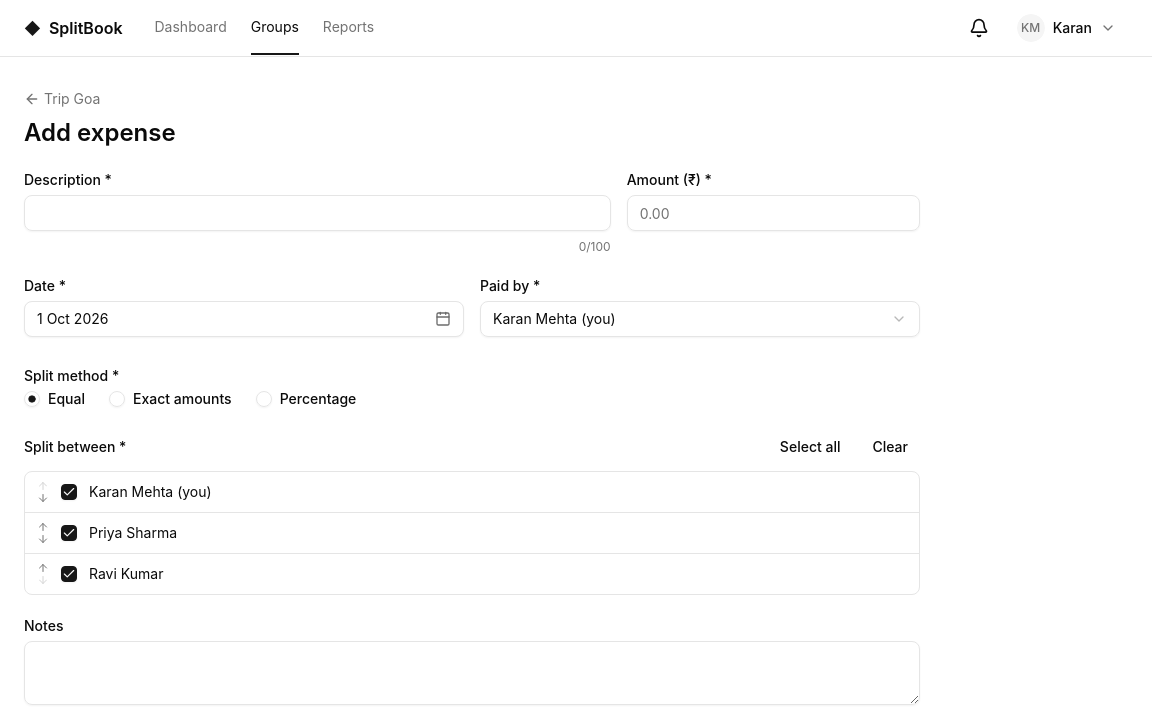
it: §8 expense form — add › server error codes appear on the form
Type "Cab" into the field labelled "Description *" at {"x": 317, "y": 213}, box [24,195,611,231]
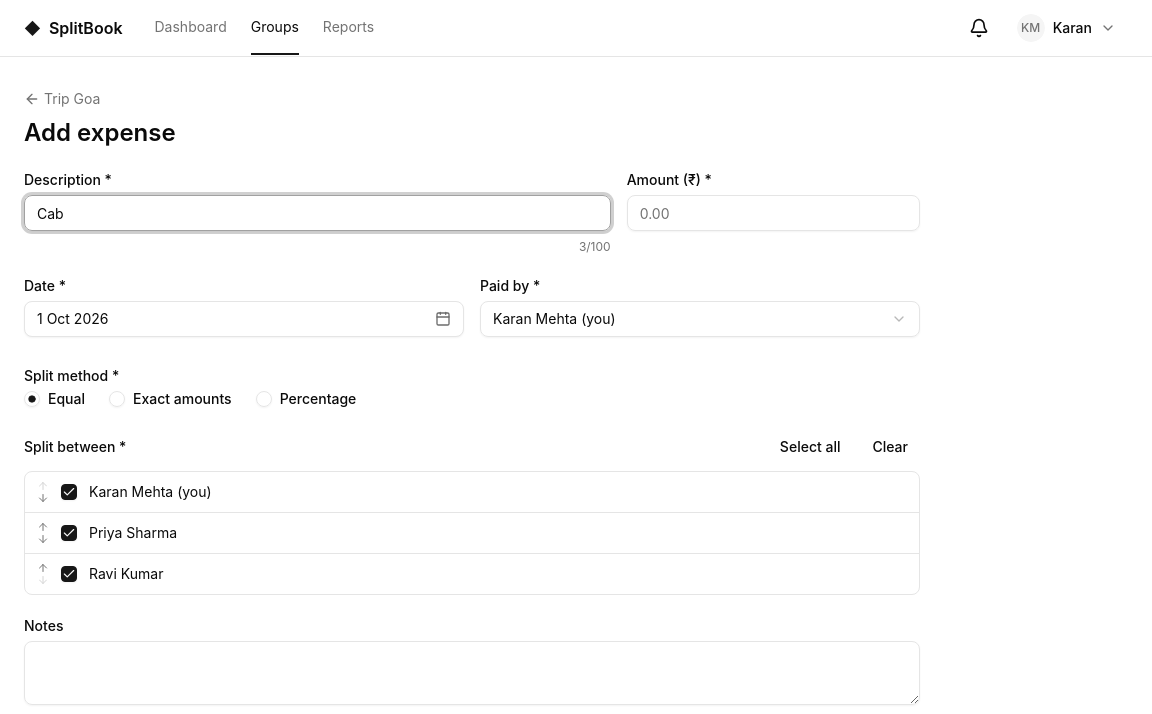
Type "10" into the field labelled "Amount (₹) *" at {"x": 773, "y": 213}, box [627,195,920,231]
(page scrolled)
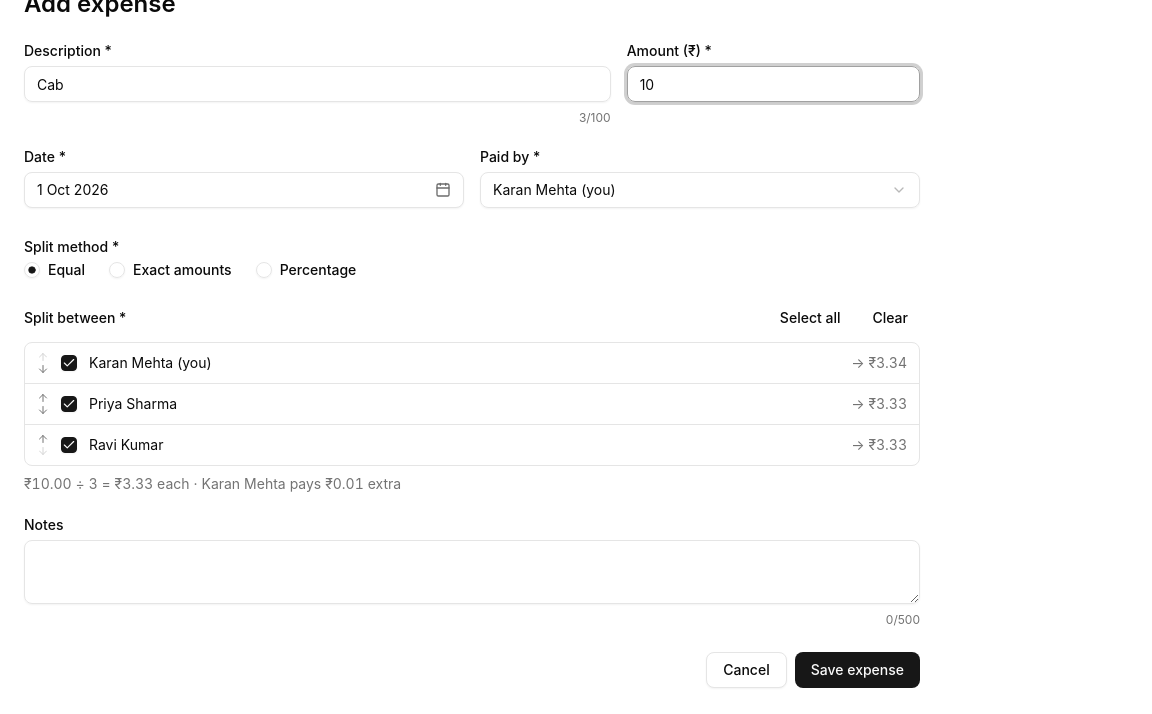
Click the button "Save expense" at {"x": 857, "y": 670}, box [795,652,920,688]
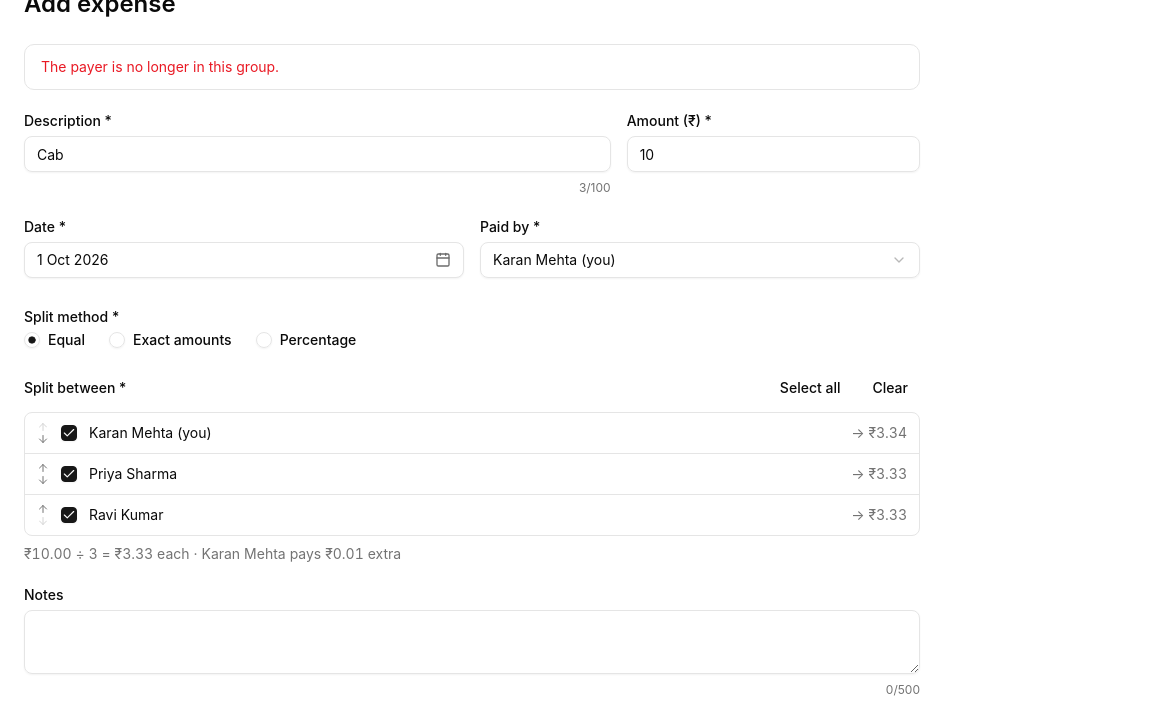
expect the text "The payer is no longer in this group." is shown: met, box [41,58,279,75]
